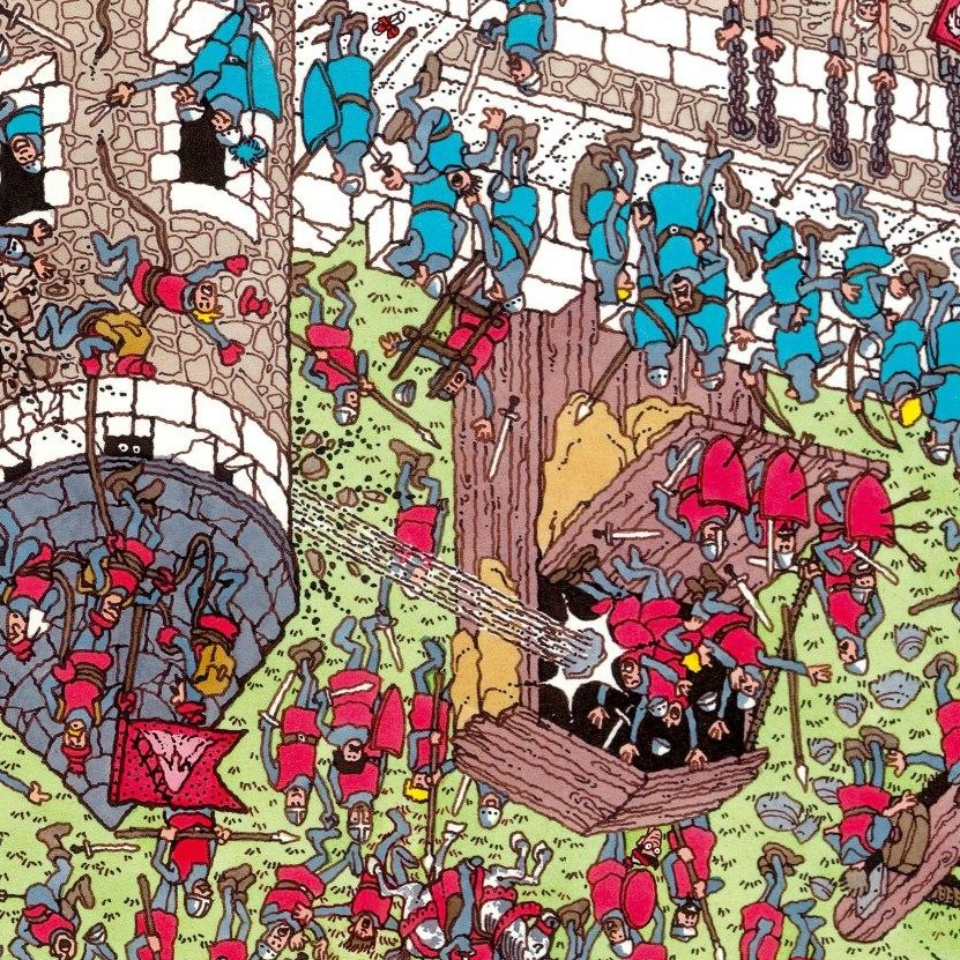waldo: (624, 826, 664, 868)
